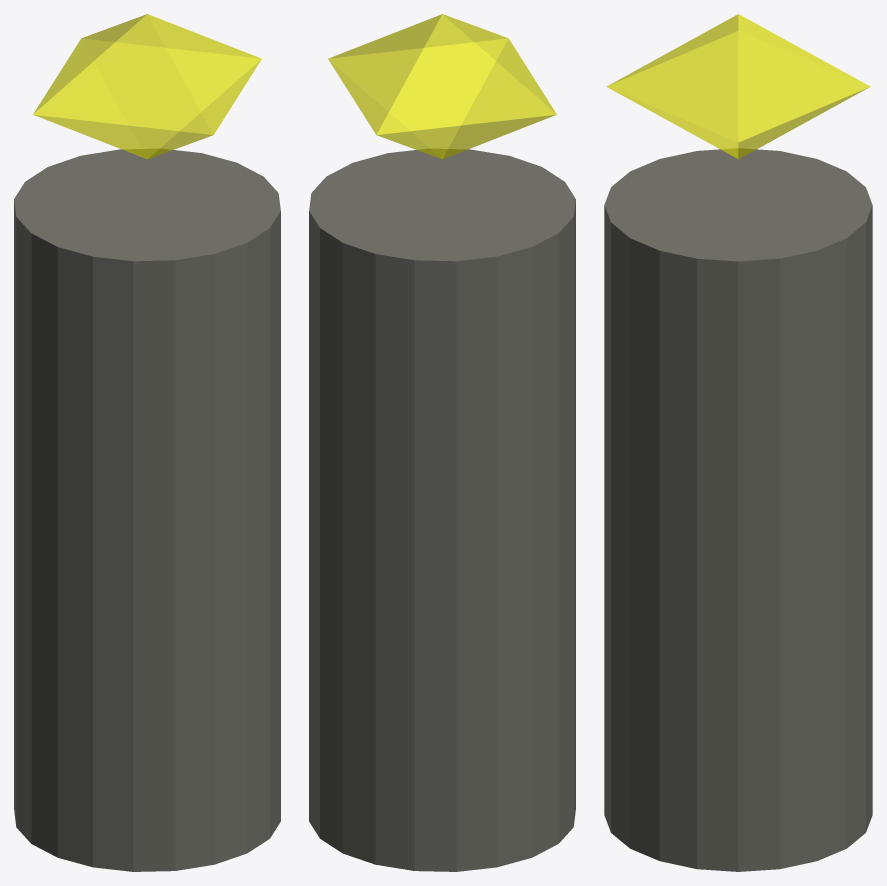
The model's file is Generatore.fbx.
The picture shows the model from 3 angles, left to right: view 1: azimuth 30°, elevation 25°; view 2: azimuth 150°, elevation 25°; view 3: azimuth 270°, elevation 25°; orthographic projection.
Parts seen in each view (by area): view 1: Generatore; view 2: Generatore; view 3: Generatore.
Boxes of the visible parts, x1,y1,x2,y2 form: Generatore: (14, 14, 280, 871); Generatore: (309, 14, 575, 871); Generatore: (604, 14, 872, 871).
Size of the model in its own units: 0.7677 by 2.53 by 0.7677.
